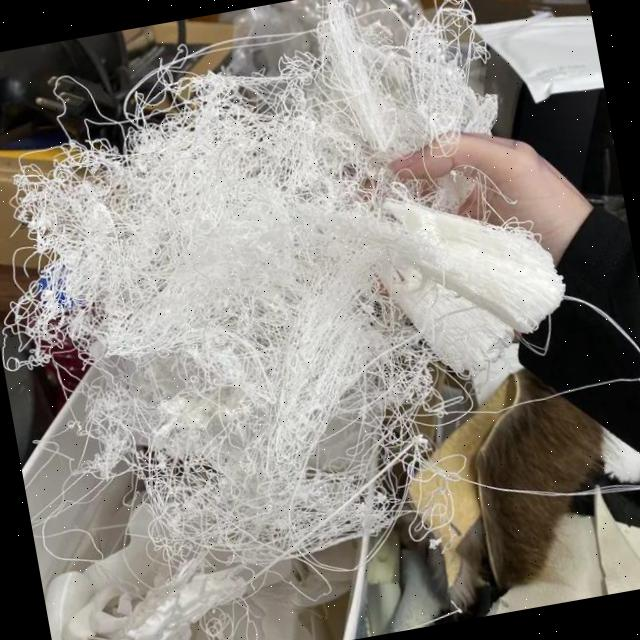spaghetti: (200, 45, 370, 204), (86, 214, 248, 360), (232, 184, 395, 316), (348, 11, 492, 150), (12, 138, 144, 281), (110, 78, 225, 222), (244, 461, 401, 566), (245, 308, 378, 422), (142, 444, 258, 571), (0, 269, 107, 374), (72, 372, 170, 480), (382, 428, 466, 538), (172, 342, 255, 442)
